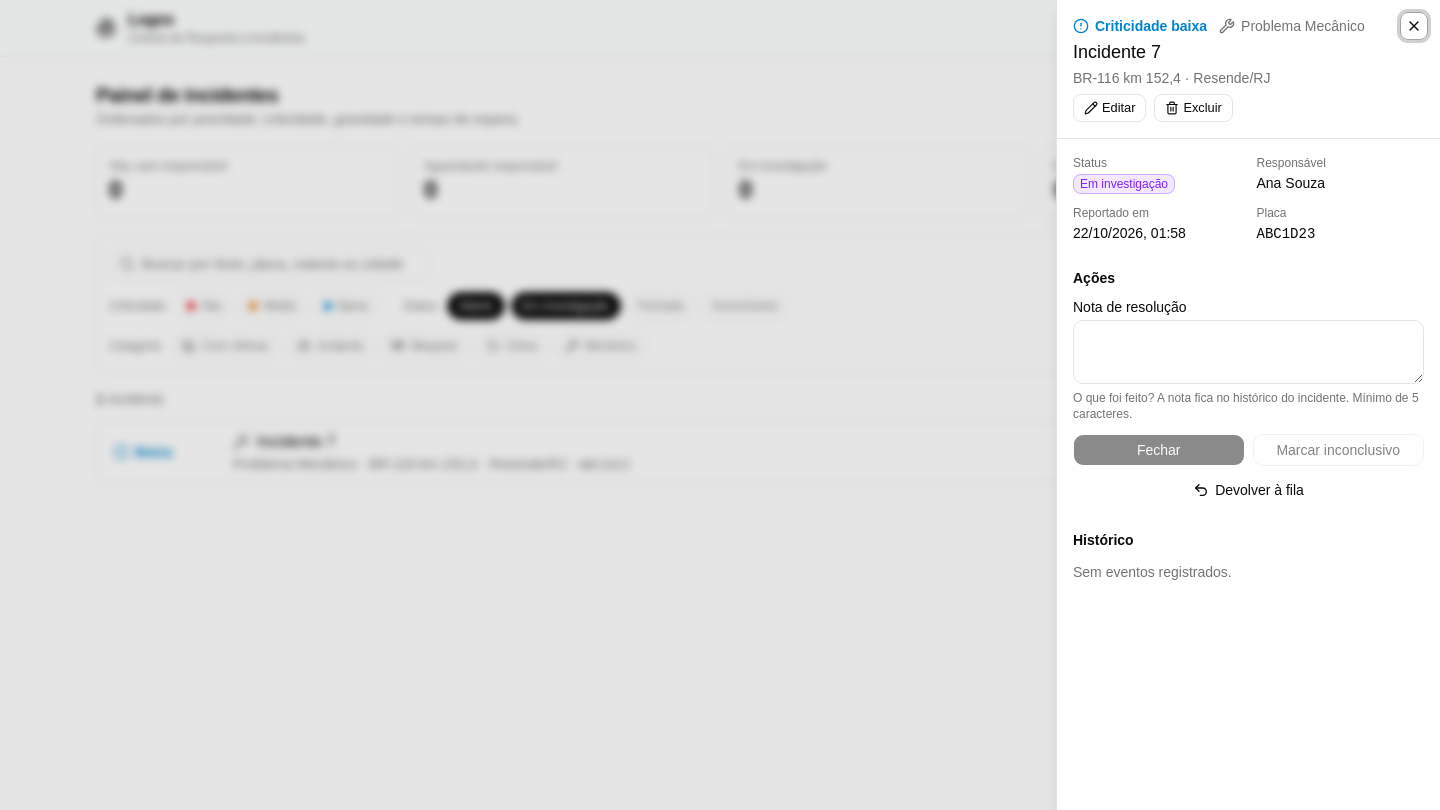
Test: ações sobre o incidente › responsável devolve o incidente à fila
Click the button "Devolver à fila".
click(1248, 490)  # box [1073,474,1424,506]
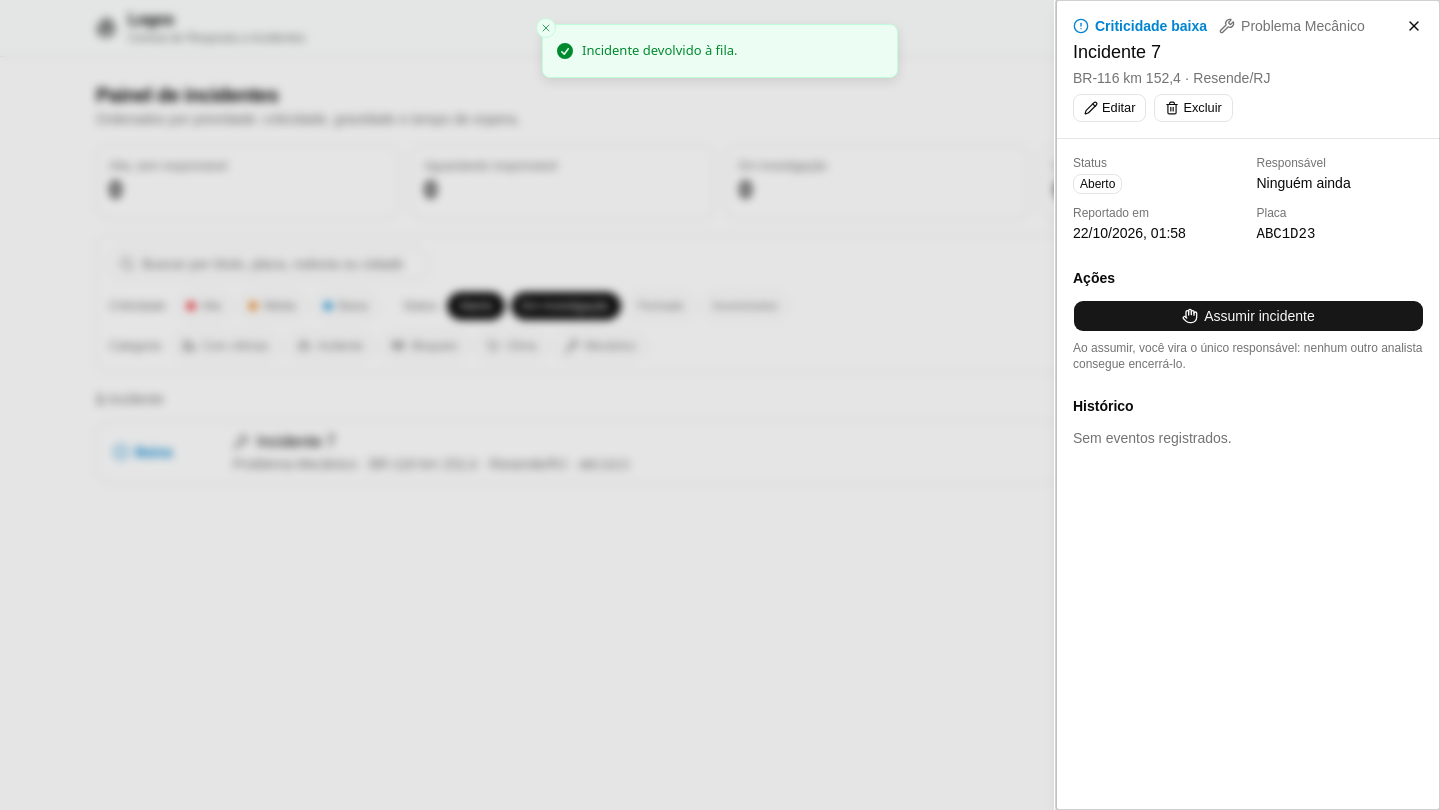
Expected: the text "Incidente devolvido à fila." is shown, [582,41,738,60]
